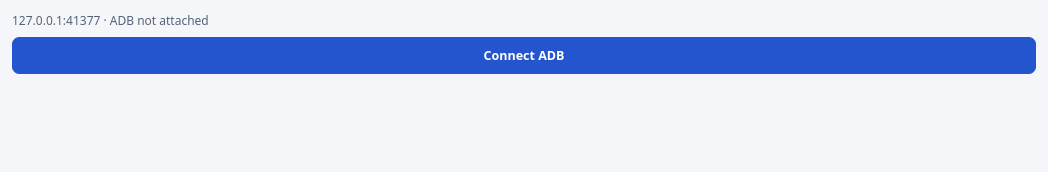
Test: SessionAdbLine › shows the copy for {"outcome":"missing"}
The image size is (1048, 172).
Click the button "Connect ADB". click: (524, 55)
box: [12,37,1036,74]
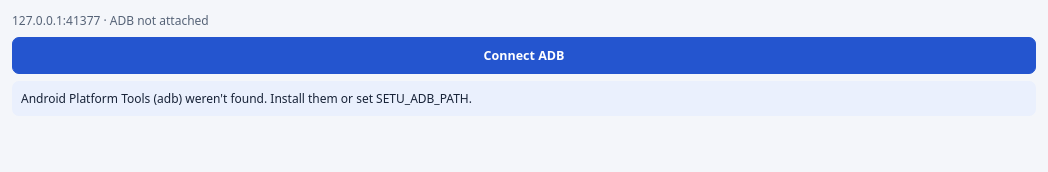
Now the message reads "Android Platform Tools (adb) weren't found. Install them or set SETU_ADB_PATH.", box [21,90,472,107]
